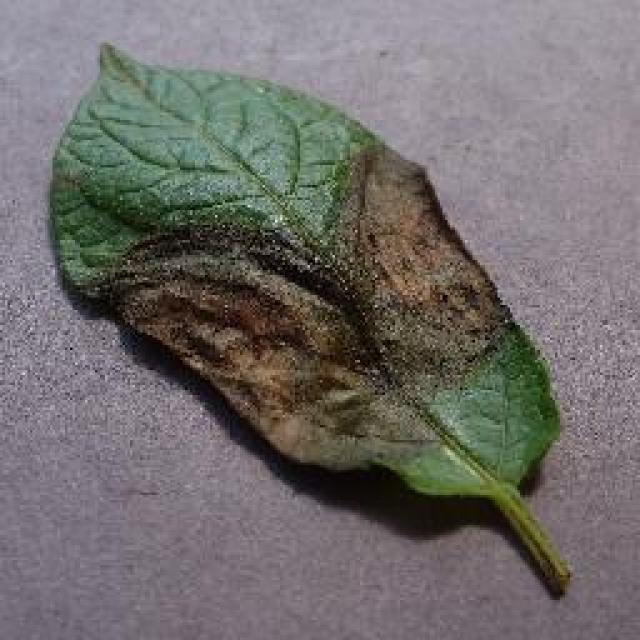Potato: (48, 38, 572, 598)
